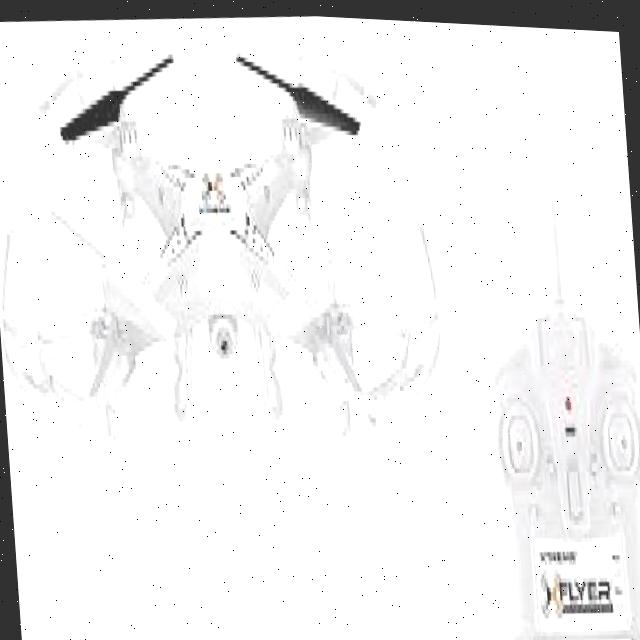drone: (0, 7, 461, 550)
